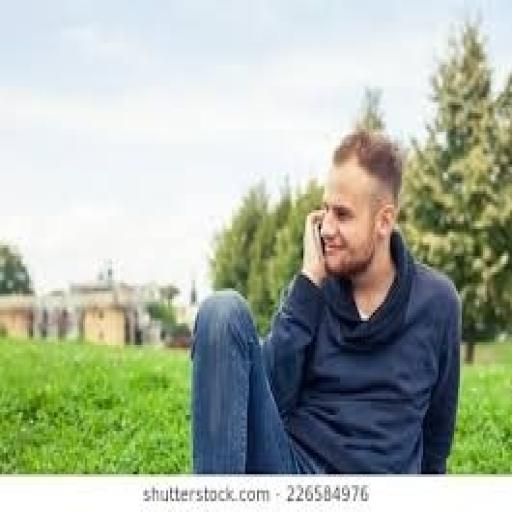sitting: (187, 124, 464, 474)
